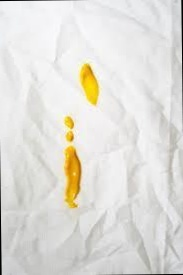mustard: (57, 144, 87, 212), (82, 66, 102, 109), (64, 116, 76, 131), (67, 134, 75, 142)
